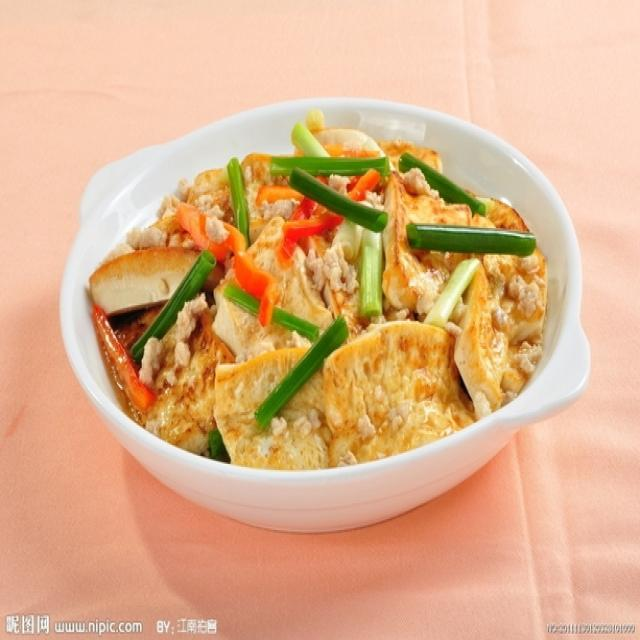豆腐料理: (64, 101, 577, 503)
